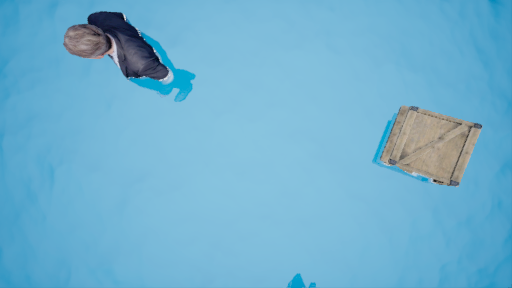person: (63, 16, 203, 105)
